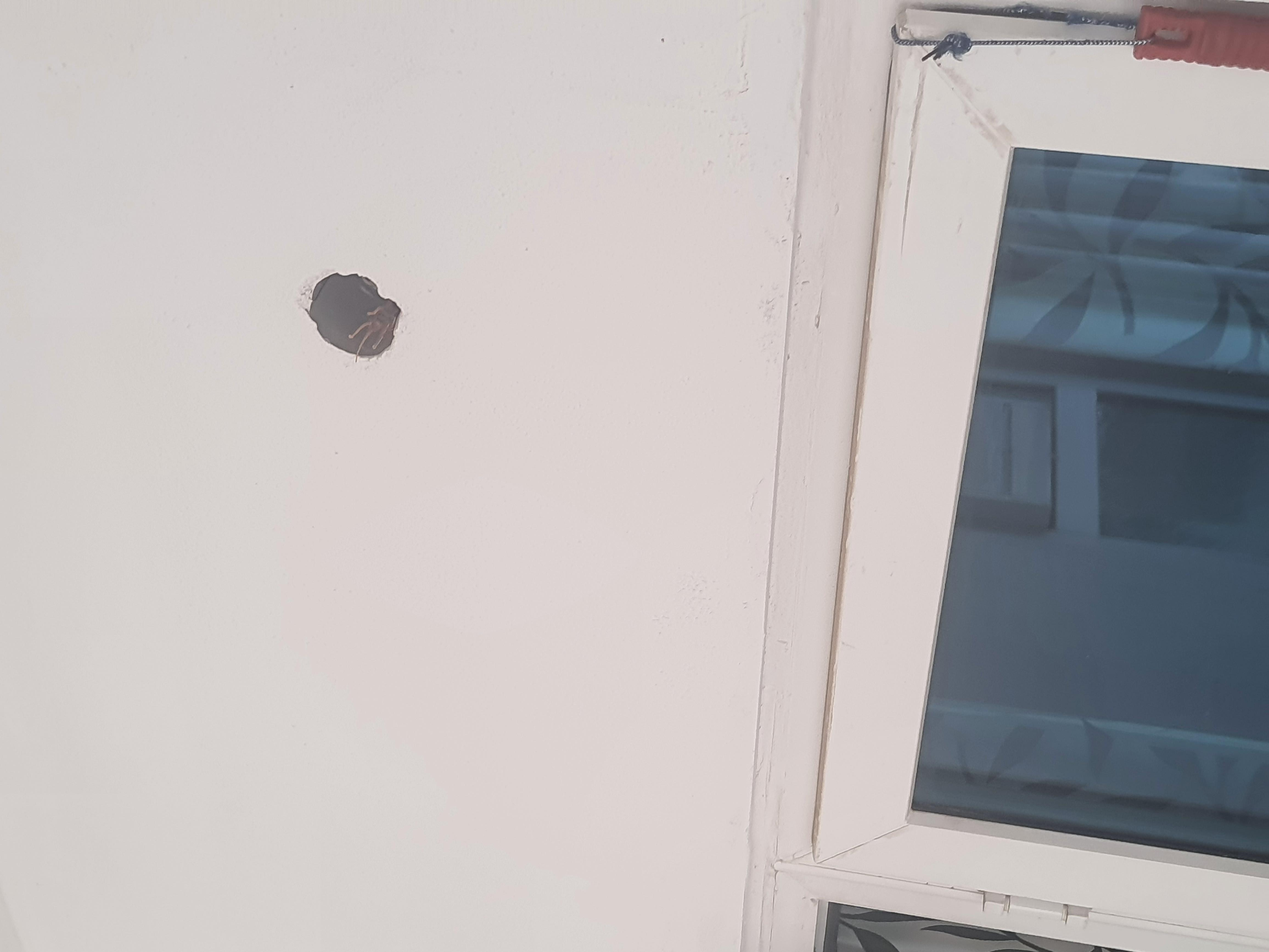cockroach: (781, 256, 898, 305)
